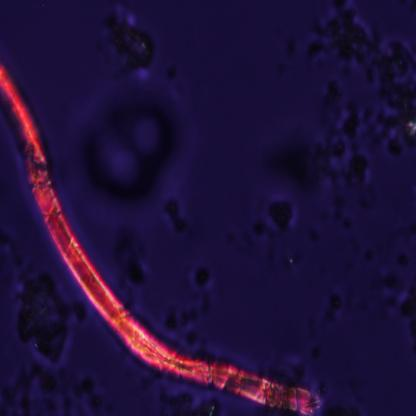Microfibre: (0, 66, 319, 410)
